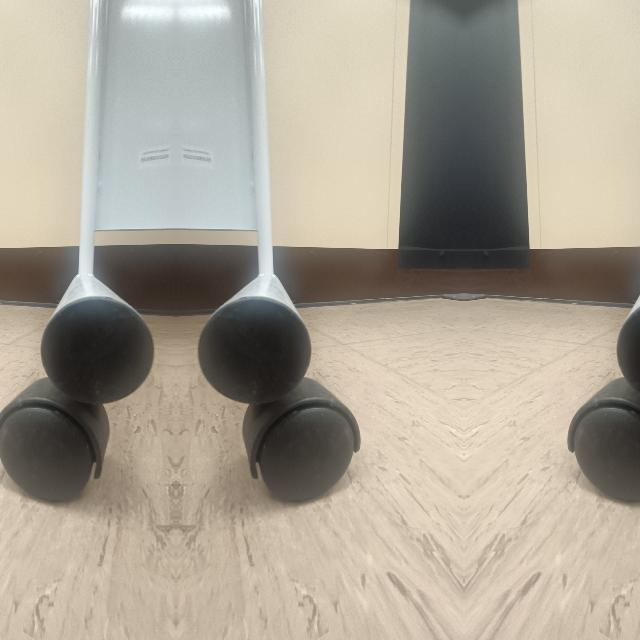obstacle: (200, 183, 362, 501), (0, 183, 149, 501), (565, 183, 640, 501)
